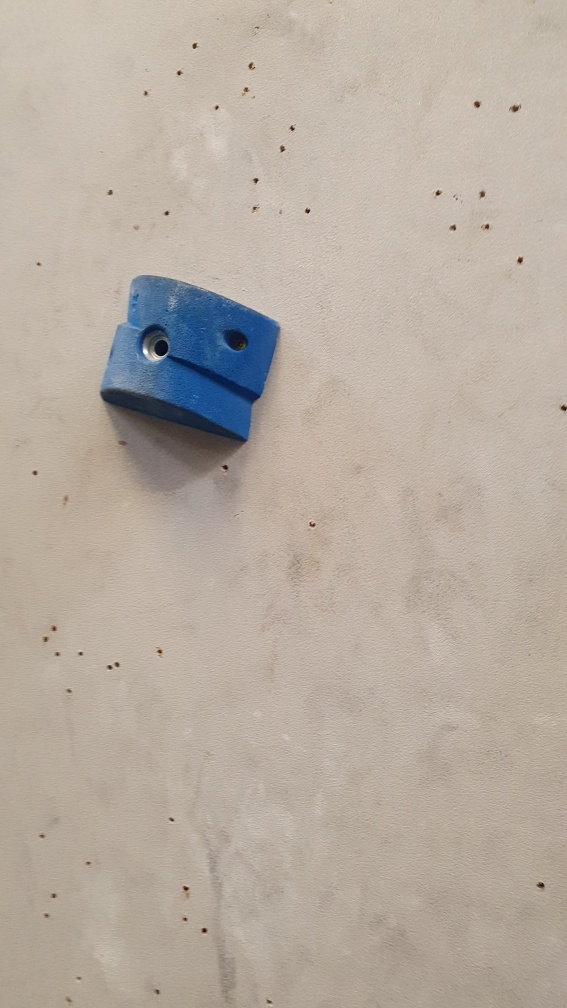Pinch: (100, 265, 285, 445)
